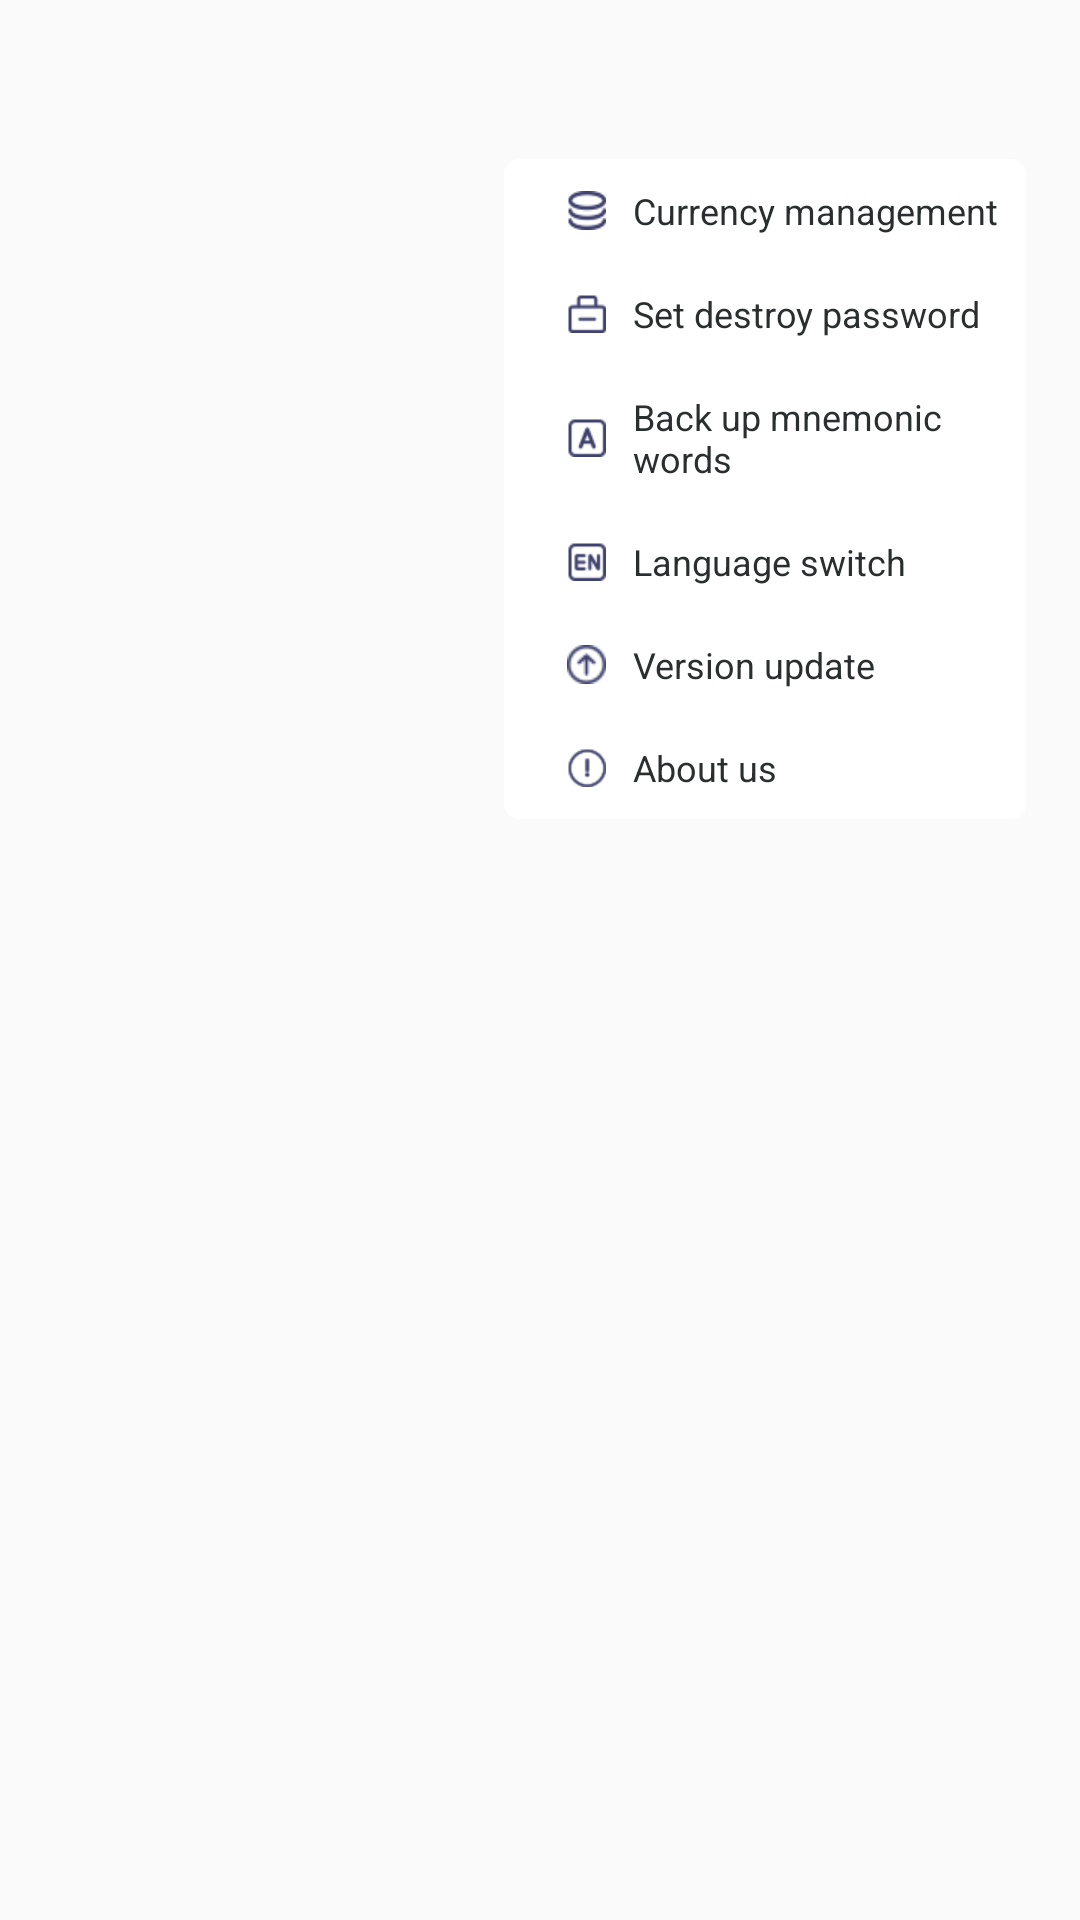

Locate icon controls on the screen. Image size 1080 x 1920, boxes as (x1, y1, x2, y2).
coin manage: (568, 191, 606, 230)
delete psw: (568, 295, 606, 333)
miandg en: (568, 543, 606, 581)
